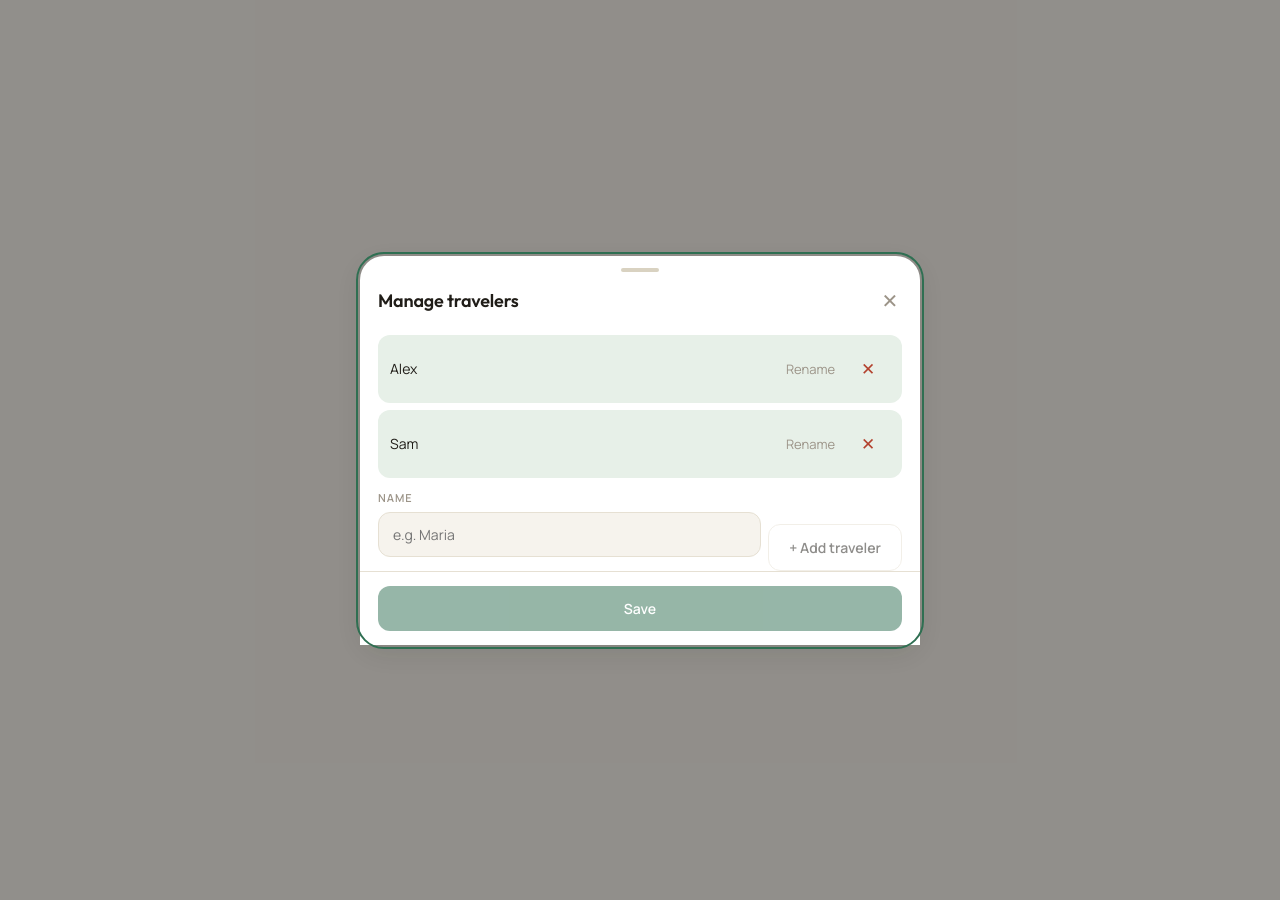
ManageTravelersSheet › save is disabled until something actually changes
expect the button "Save" is disabled: met, box [378,586,902,630]
Type "Maria" into the field labelled "Name".
click(570, 534); type("Maria")  # box [378,512,761,556]
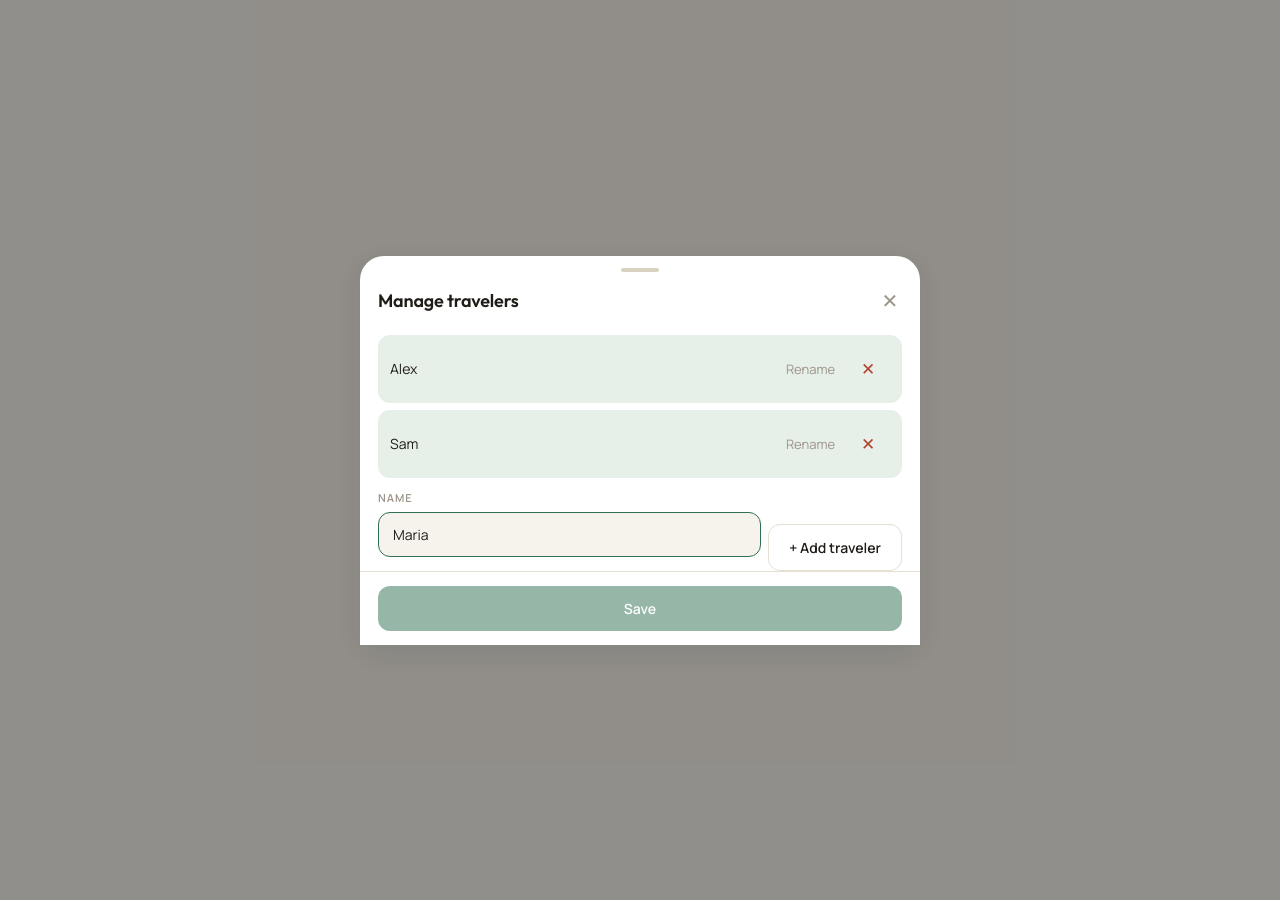
Click the button "+ Add traveler".
click(835, 547)  # box [768,524,902,570]
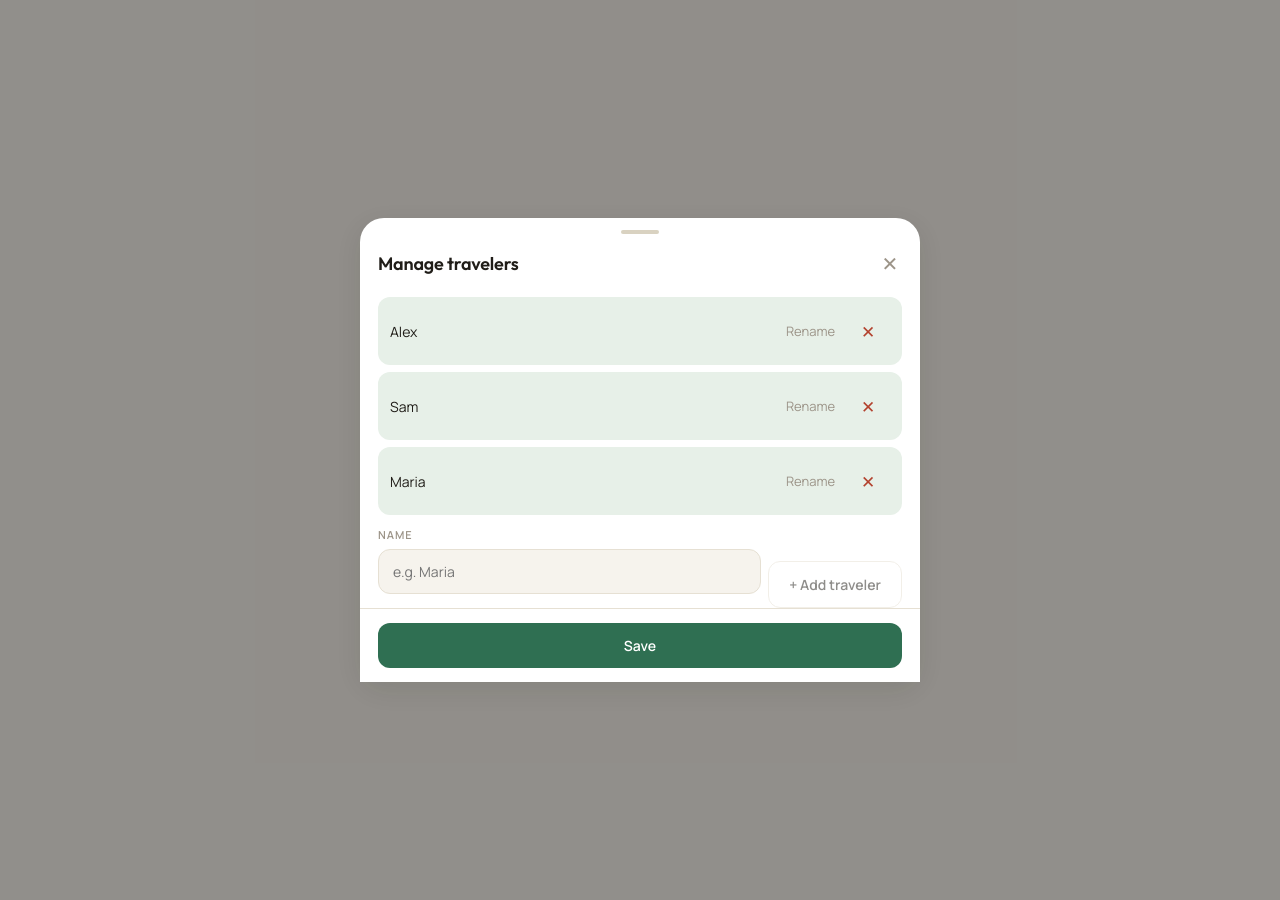
expect the text "Maria" is shown: met, box [390,472,426,490]
expect the button "Save" is enabled: met, box [378,623,902,668]
